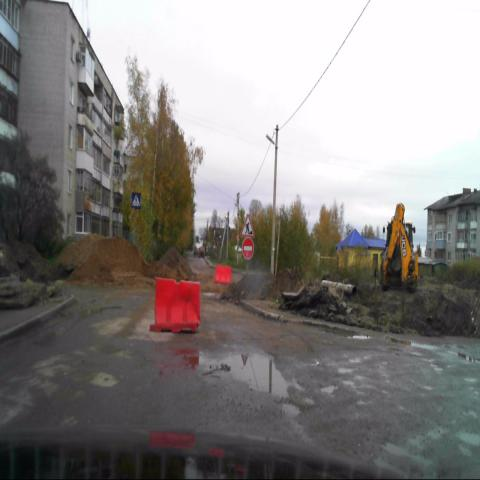1_25: (241, 213, 254, 236)
